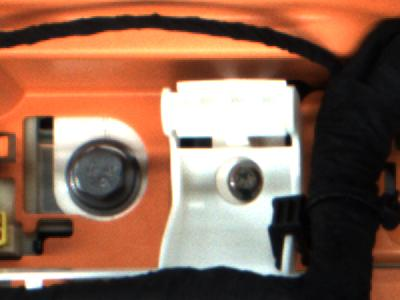nut_b: (63, 135, 148, 218)
